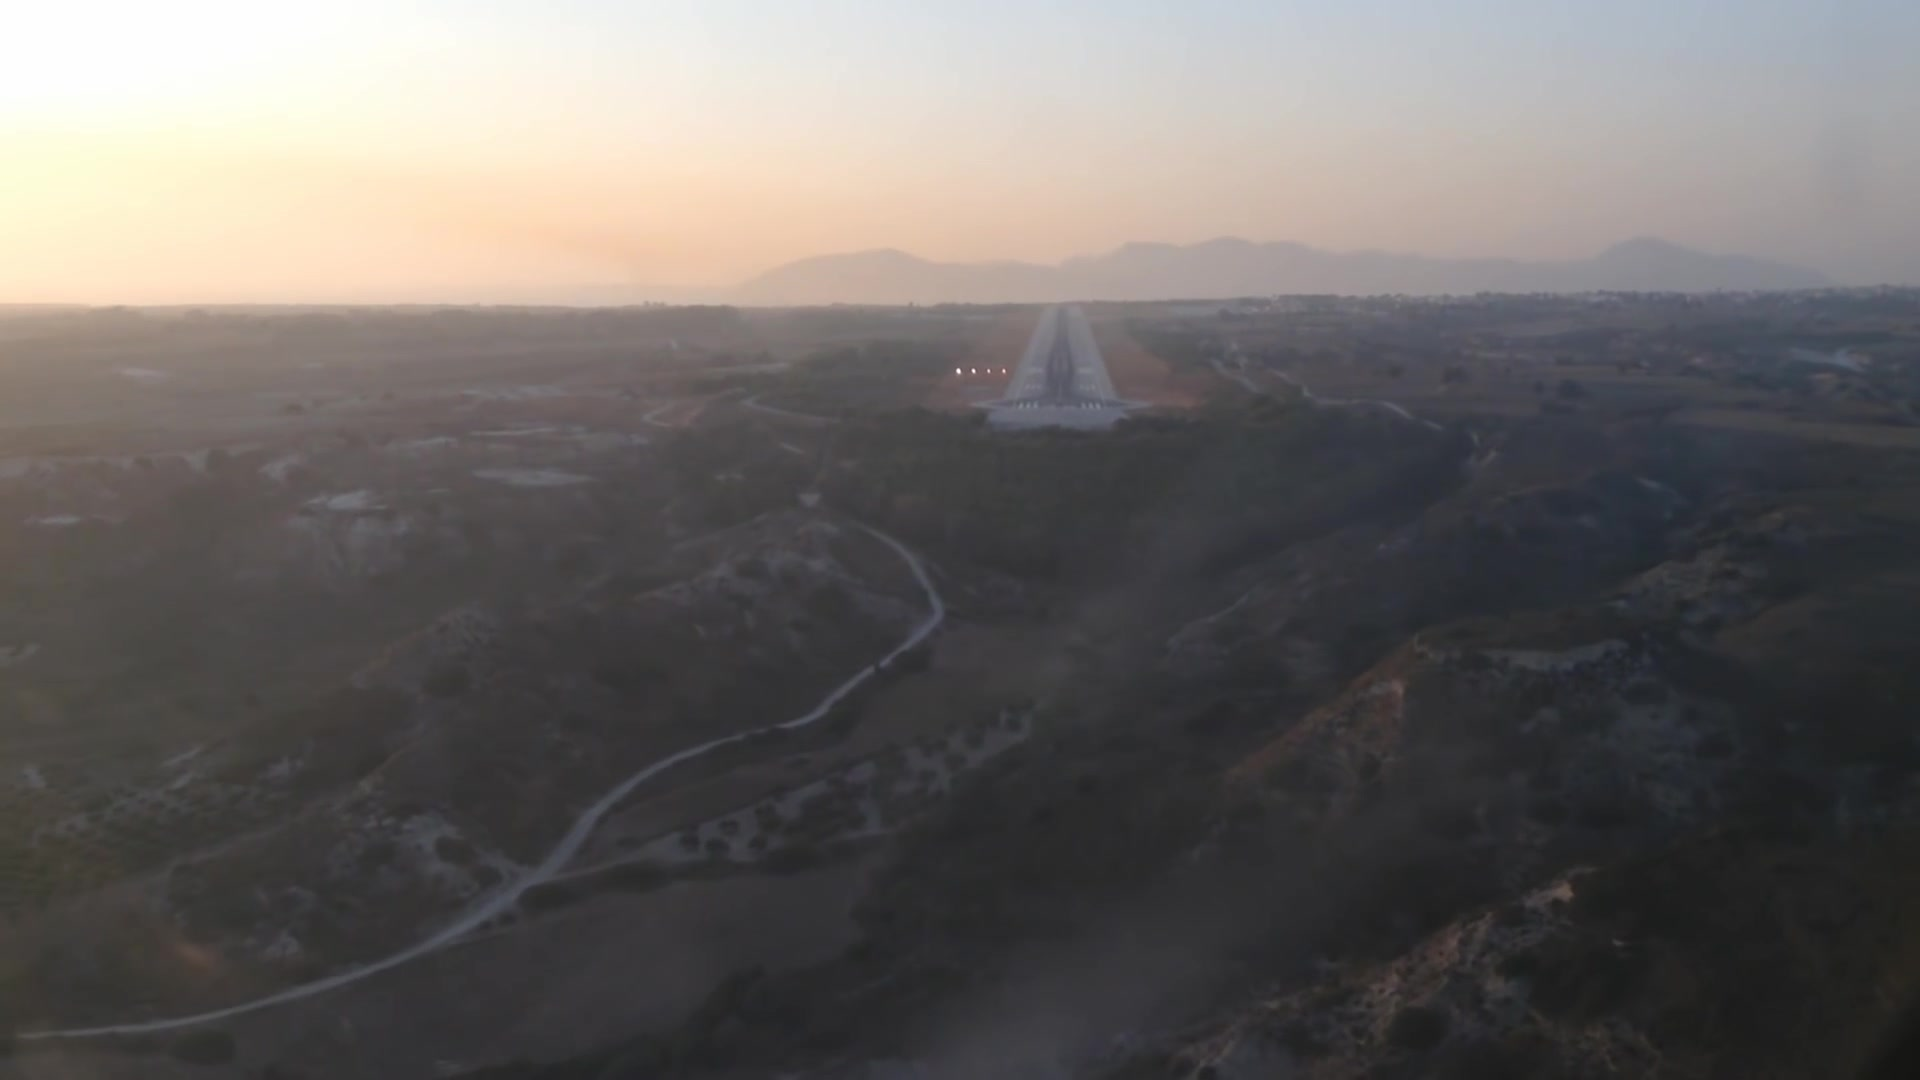entrance: (1011, 398, 1112, 414)
runway: (1001, 307, 1121, 426)
